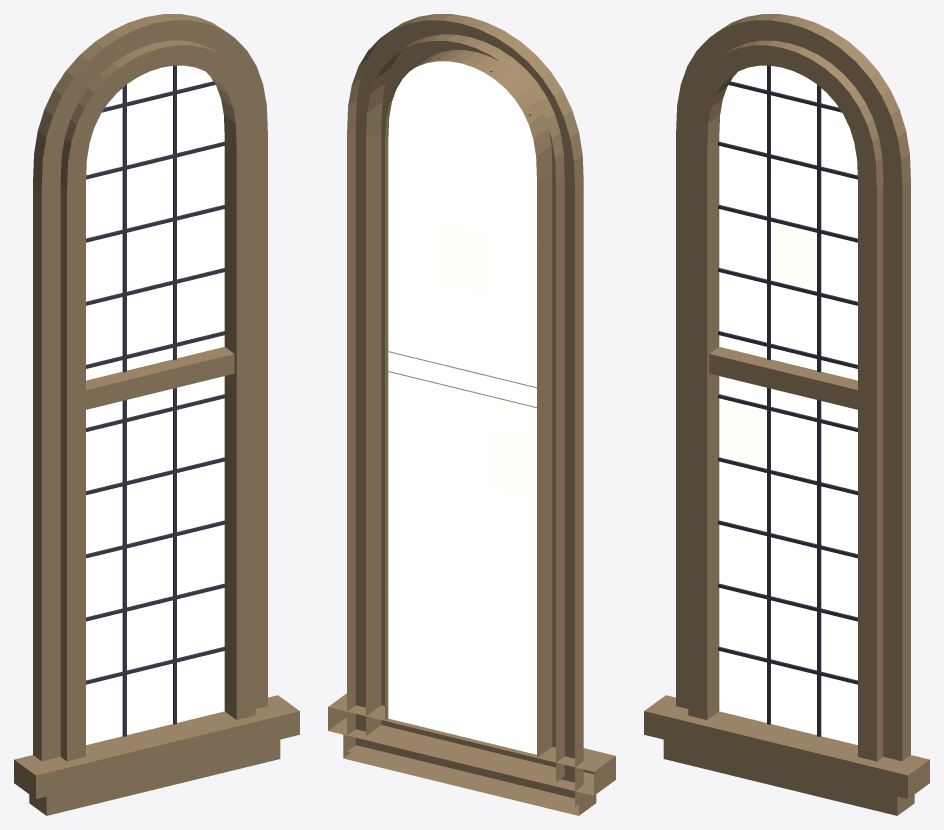
Rendered from window_0_8x3_4.glb.
3 views of the same model, side by side, from view 1: azimuth 30°, elevation 25°; view 2: azimuth 150°, elevation 25°; view 3: azimuth 330°, elevation 25° (orthographic).
Parts seen in each view (by area): view 1: window_0_8x3_4; view 2: window_0_8x3_4; view 3: window_0_8x3_4.
Boxes of the visible parts, x1,y1,x2,y2 form: window_0_8x3_4: (14,14,299,815); window_0_8x3_4: (328,14,615,815); window_0_8x3_4: (644,14,929,815).
Bounding box in the file's own units: 1.4 × 3.84 × 0.2.
